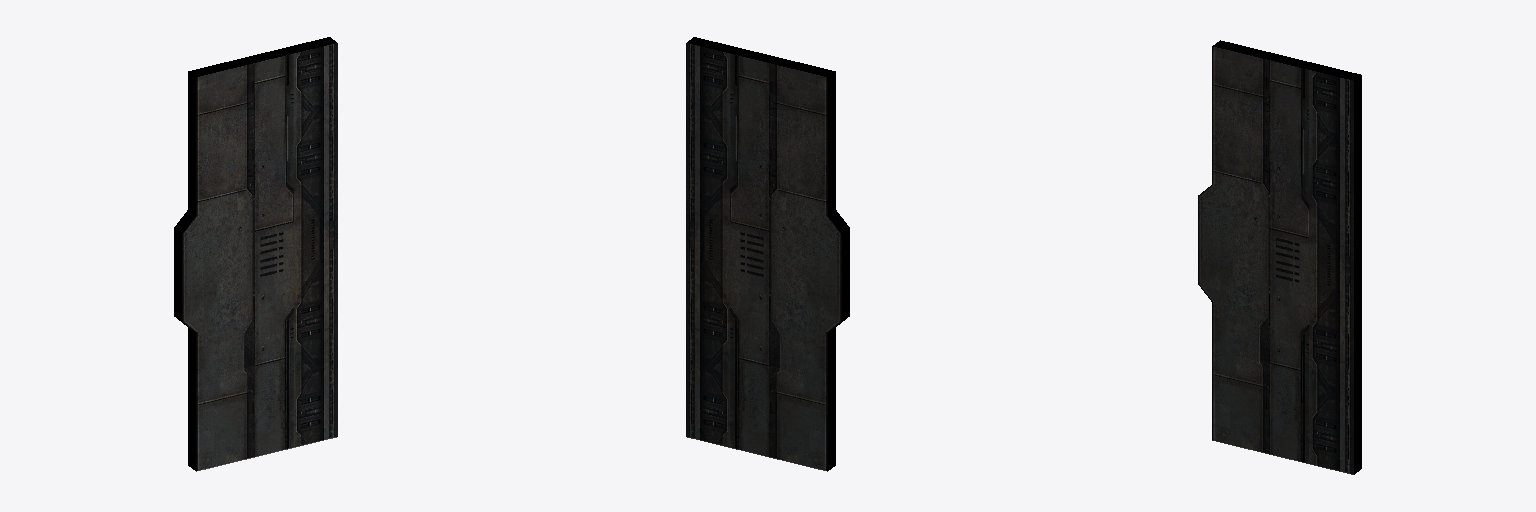
3 renders of one model, left to right at view 1: azimuth 30°, elevation 25°; view 2: azimuth 150°, elevation 25°; view 3: azimuth 330°, elevation 25°, orthographic.
Parts seen in each view (by area): view 1: Body.003; view 2: Body.003; view 3: Body.003.
Part boxes in pixels (bbox=[...]): Body.003: bbox=[174, 37, 337, 471]; Body.003: bbox=[686, 37, 849, 471]; Body.003: bbox=[1198, 40, 1361, 474].
Size of the model in its own units: 0.825 by 2 by 0.075.
Materials: 1 (1 with a texture image).